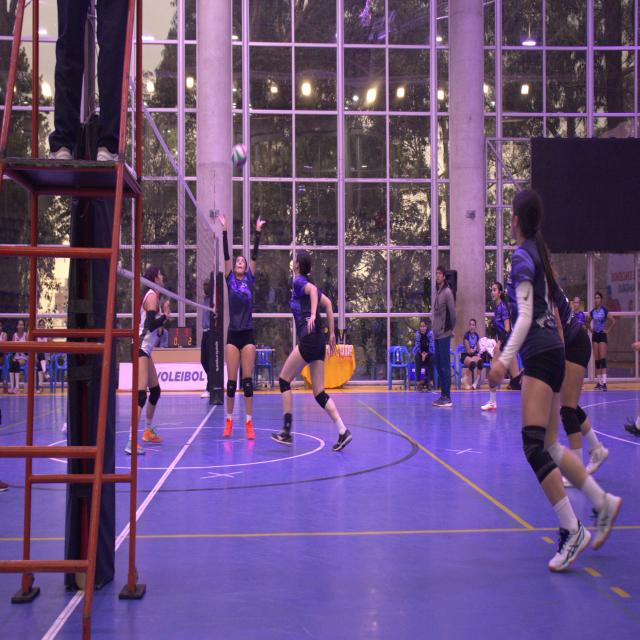volleyball: (231, 143, 248, 169)
